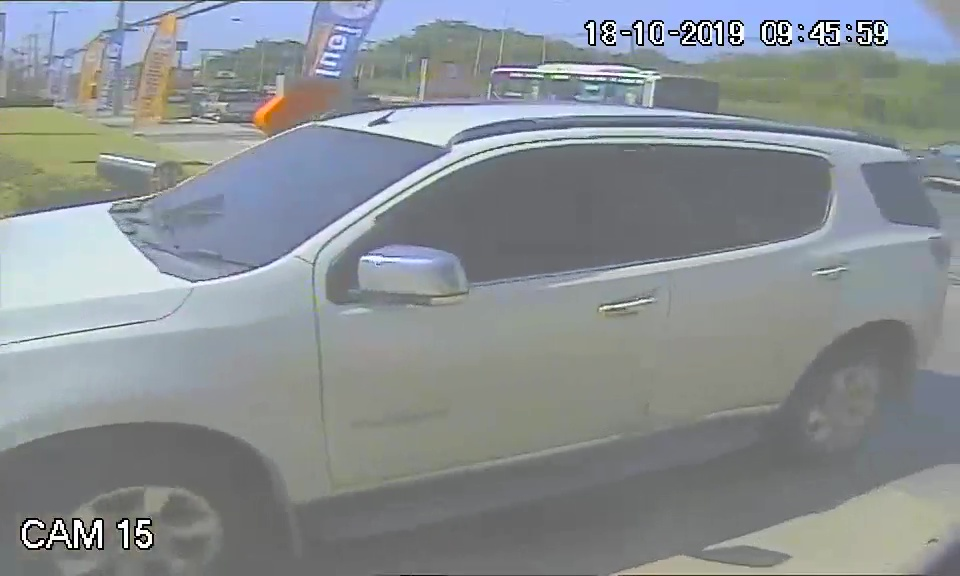pickup: (36, 100, 936, 513)
